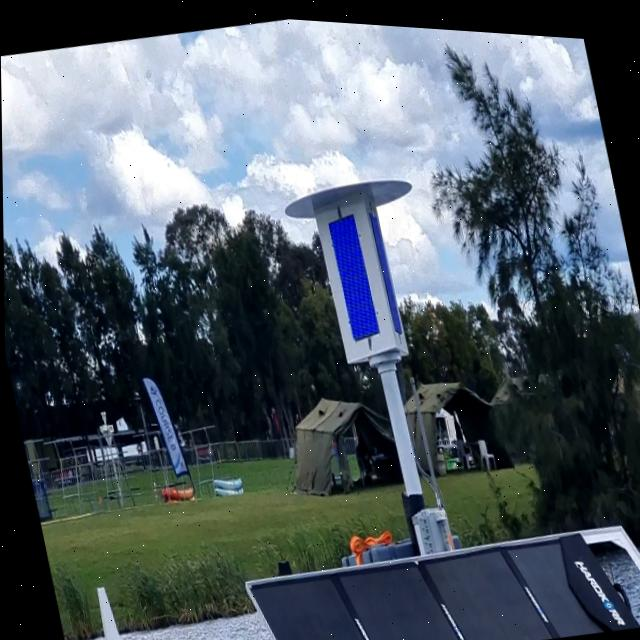led: (319, 199, 390, 347)
